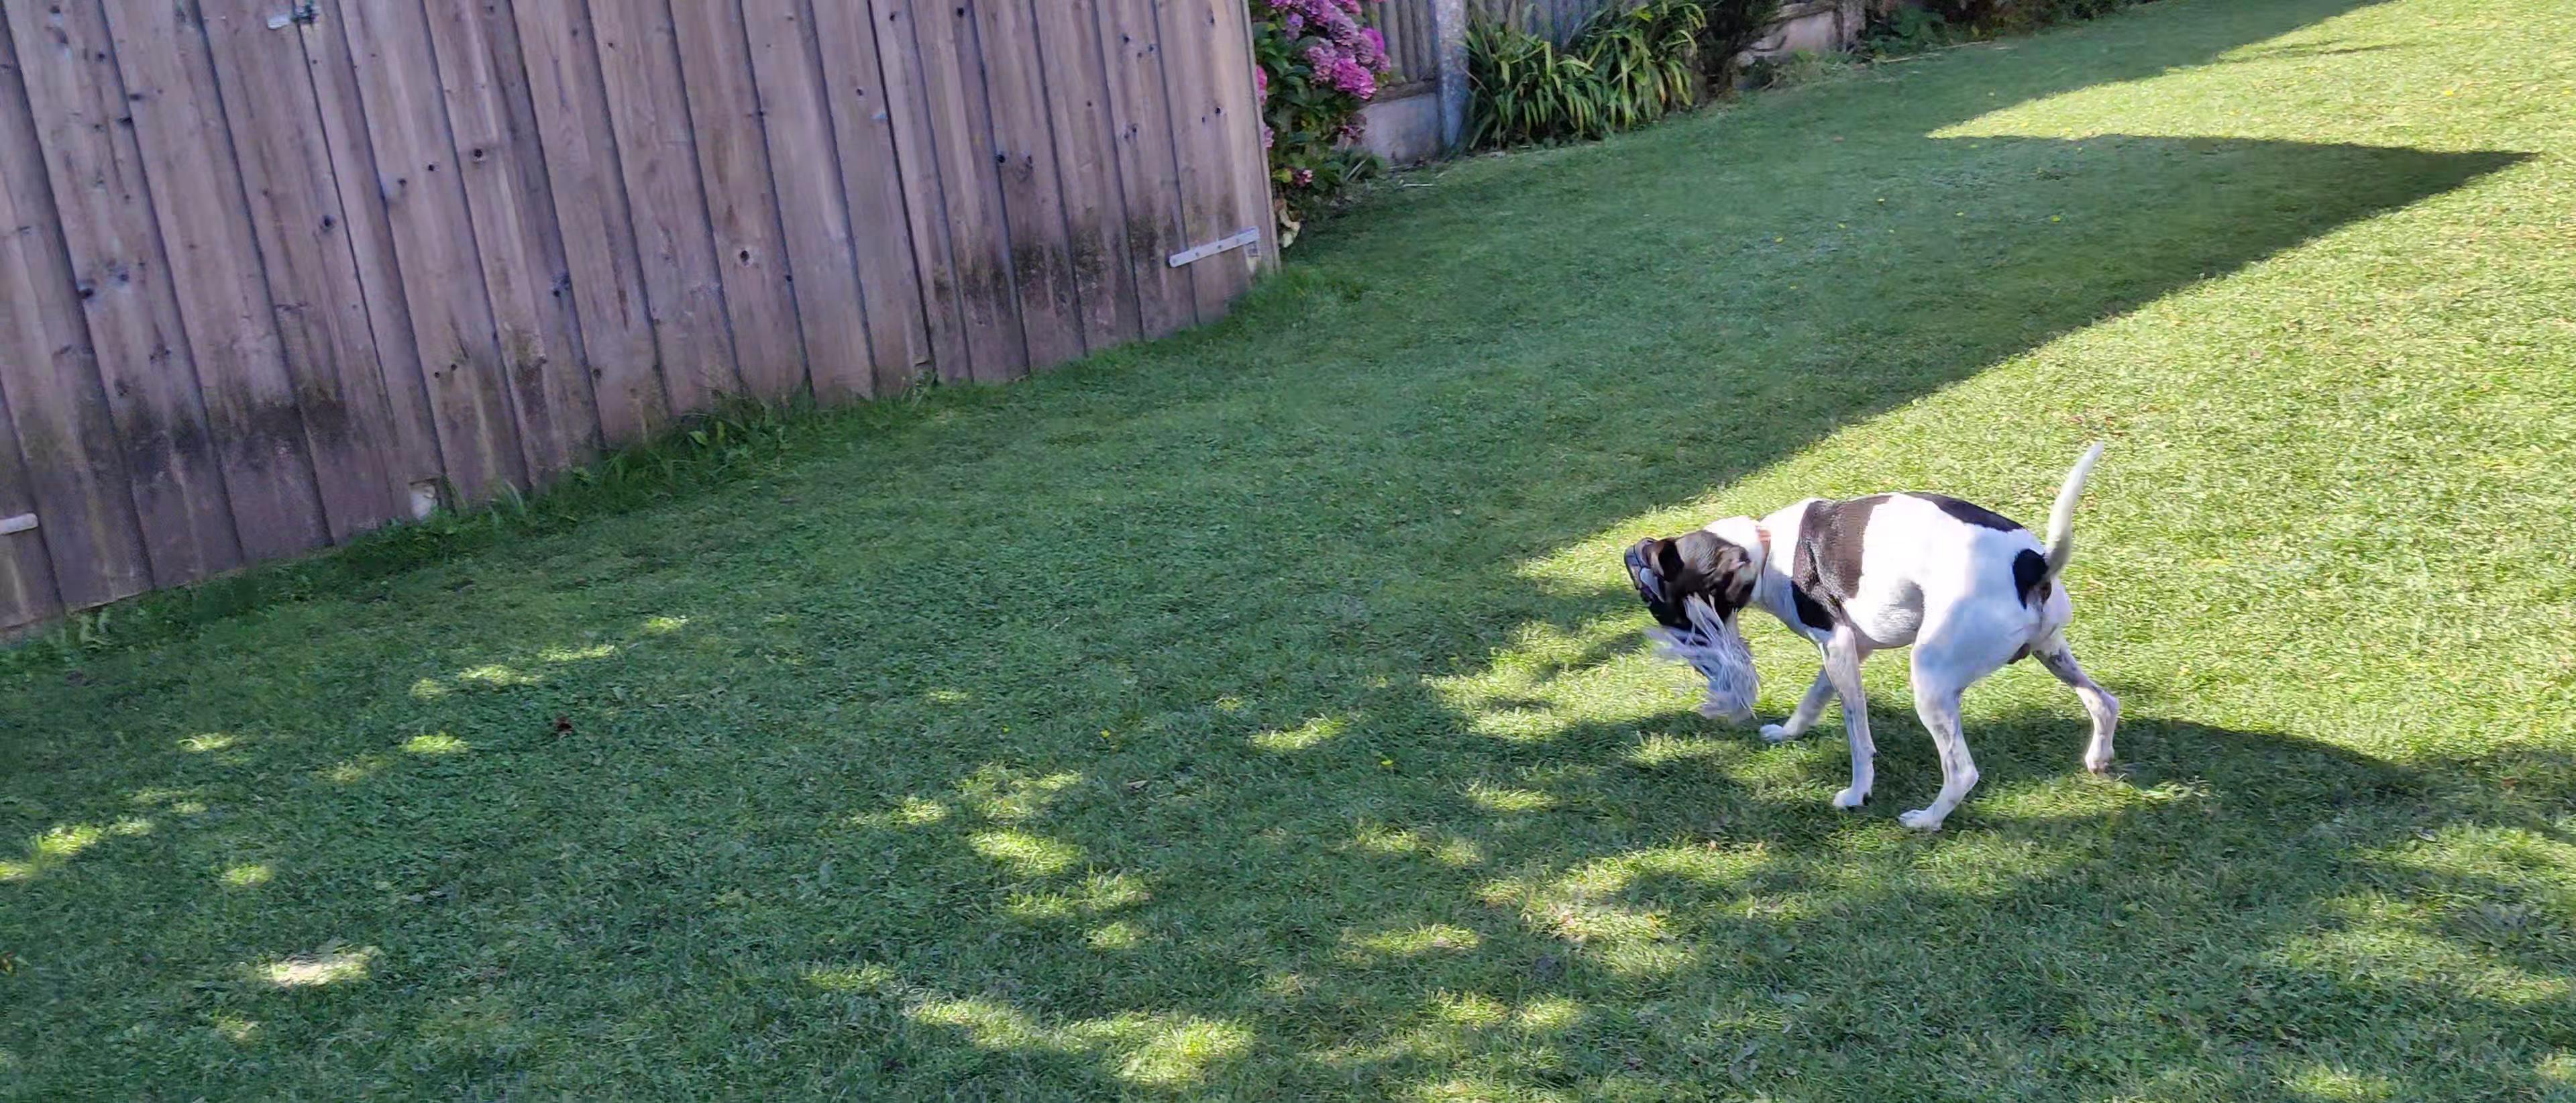Dog: (1602, 413, 2155, 843)
